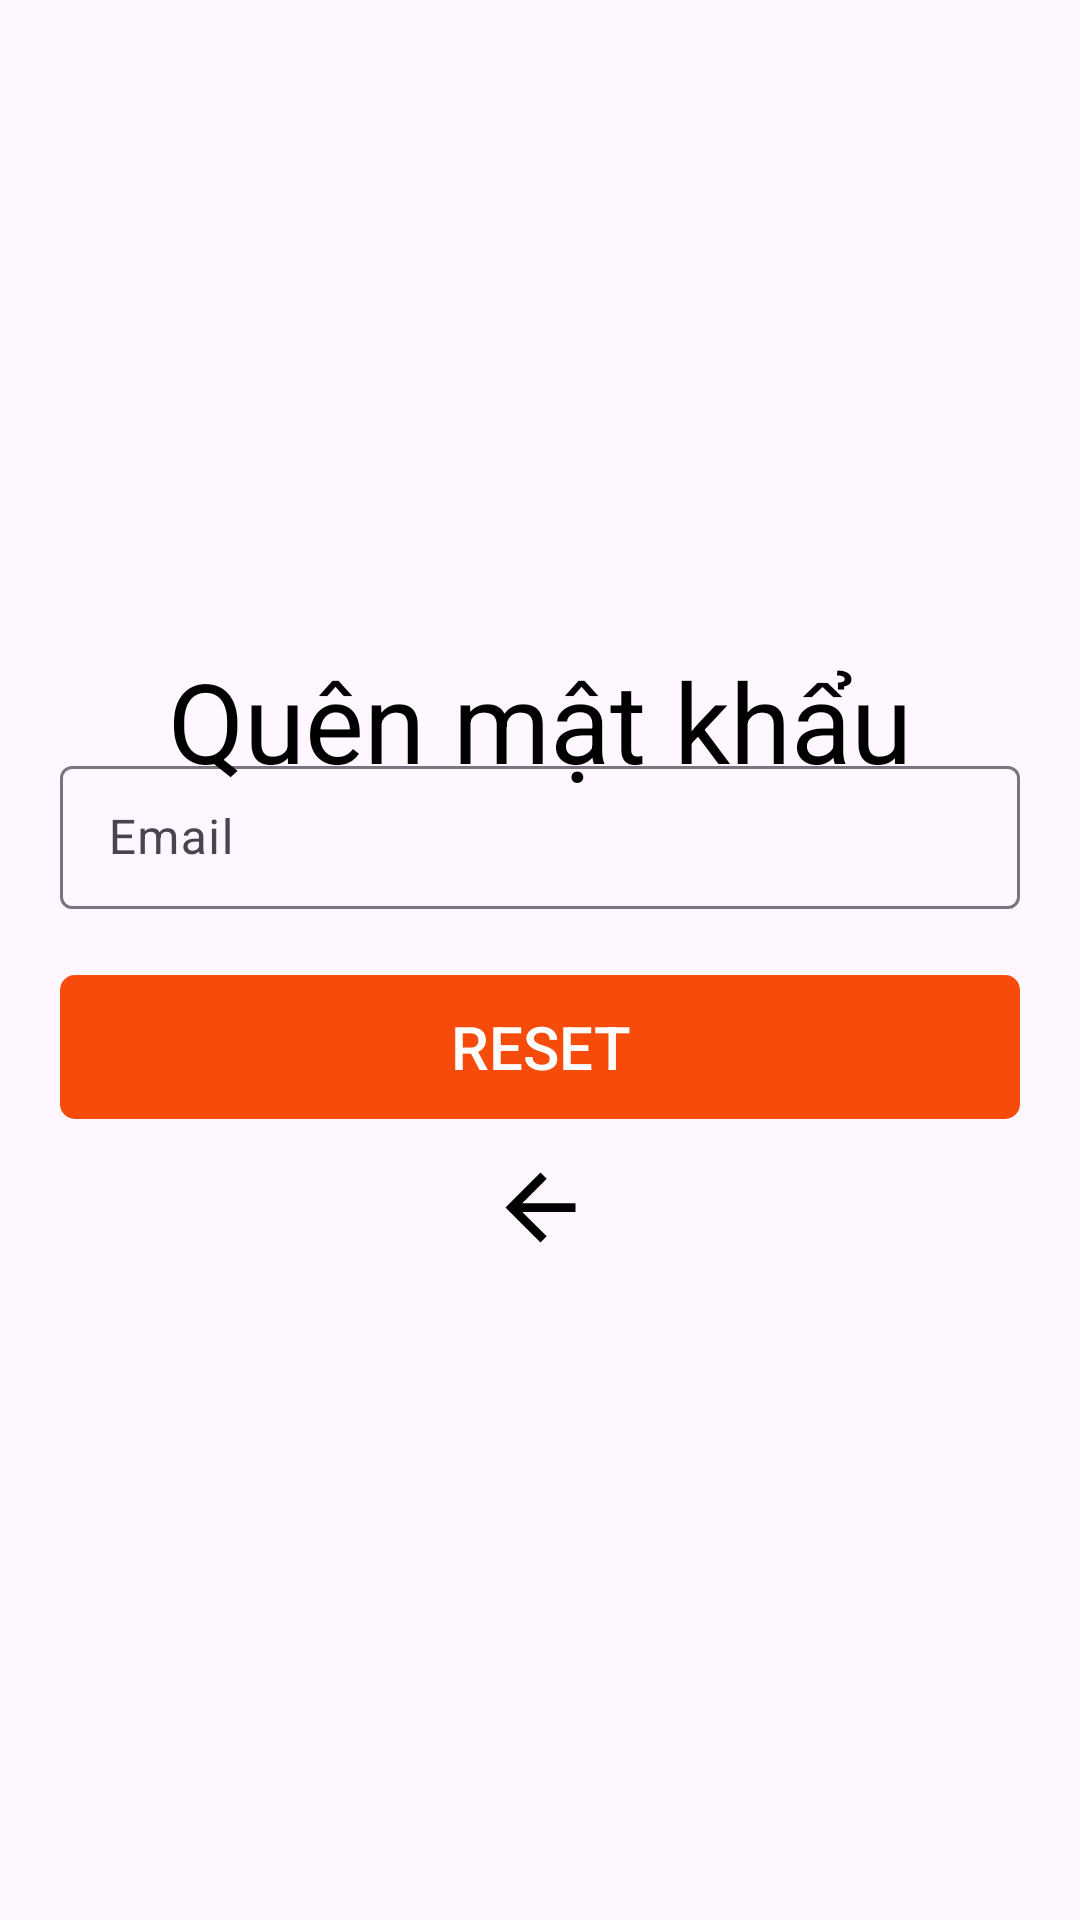

Screen size 1080px×1920px. Icon name, then its center in pixels as [x,y]:
back: [540,1207]
